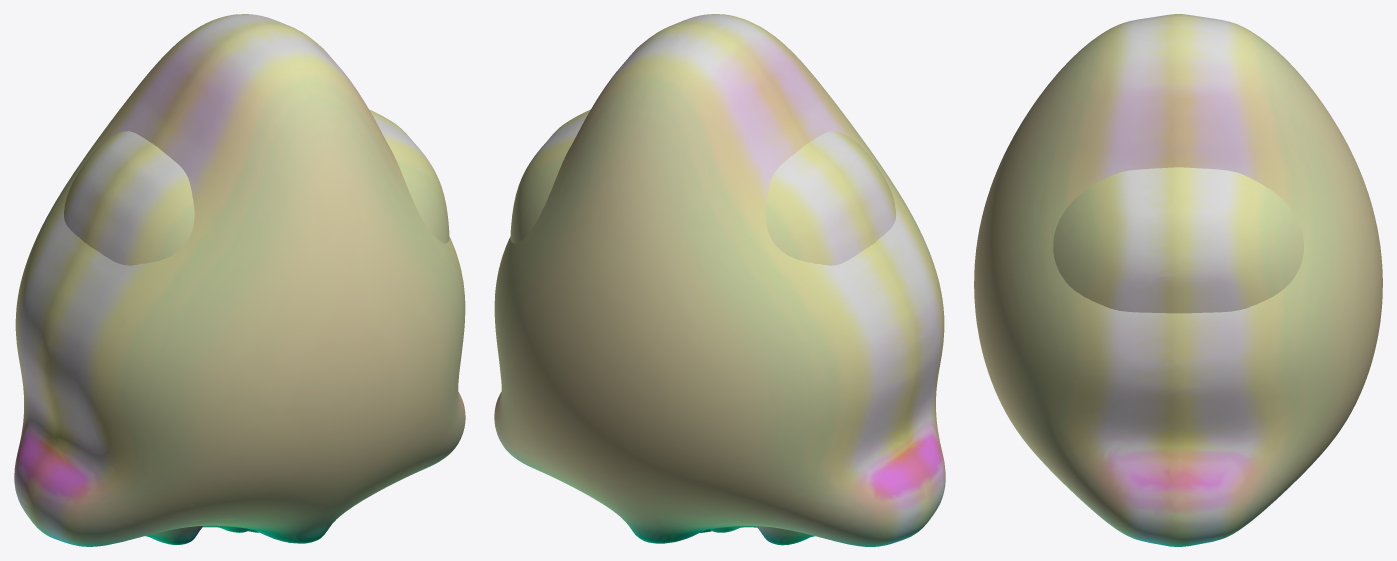
Rendered from grundblobs.glb.
The picture shows the model from 3 angles, left to right: view 1: azimuth 30°, elevation 25°; view 2: azimuth 150°, elevation 25°; view 3: azimuth 270°, elevation 25°; orthographic projection. The views are drawn at different scales.
Visible parts, largest first — view 1: s13_lod0, s12_lod0, s11_lod0; view 2: s13_lod0, s12_lod0, s11_lod0; view 3: s13_lod0, s12_lod0.
Boxes of the visible parts, x1,y1,x2,y2 form: s13_lod0: (14, 14, 465, 546); s12_lod0: (64, 109, 449, 265); s11_lod0: (150, 526, 203, 544); s13_lod0: (494, 14, 945, 546); s12_lod0: (510, 109, 896, 265); s11_lod0: (756, 526, 809, 545); s13_lod0: (974, 14, 1382, 546); s12_lod0: (1053, 167, 1303, 313).
Size of what is drawn, in the model's own units: 0.9109 by 0.9779 by 0.7909.
